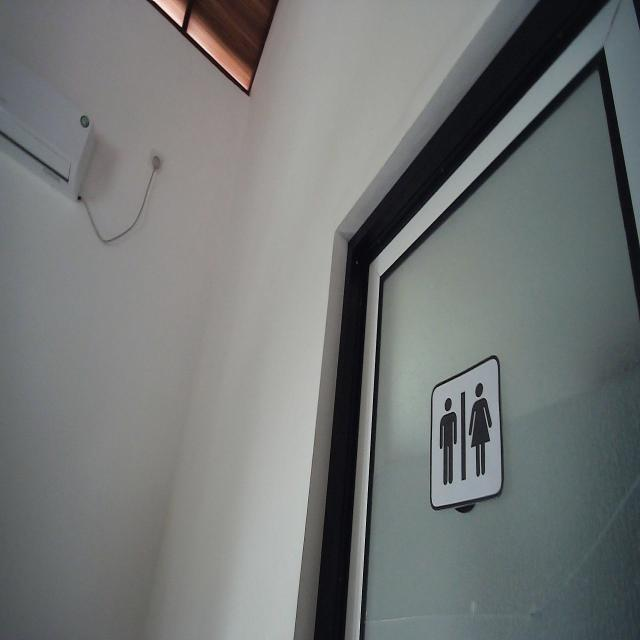restroom: (428, 352, 506, 512)
